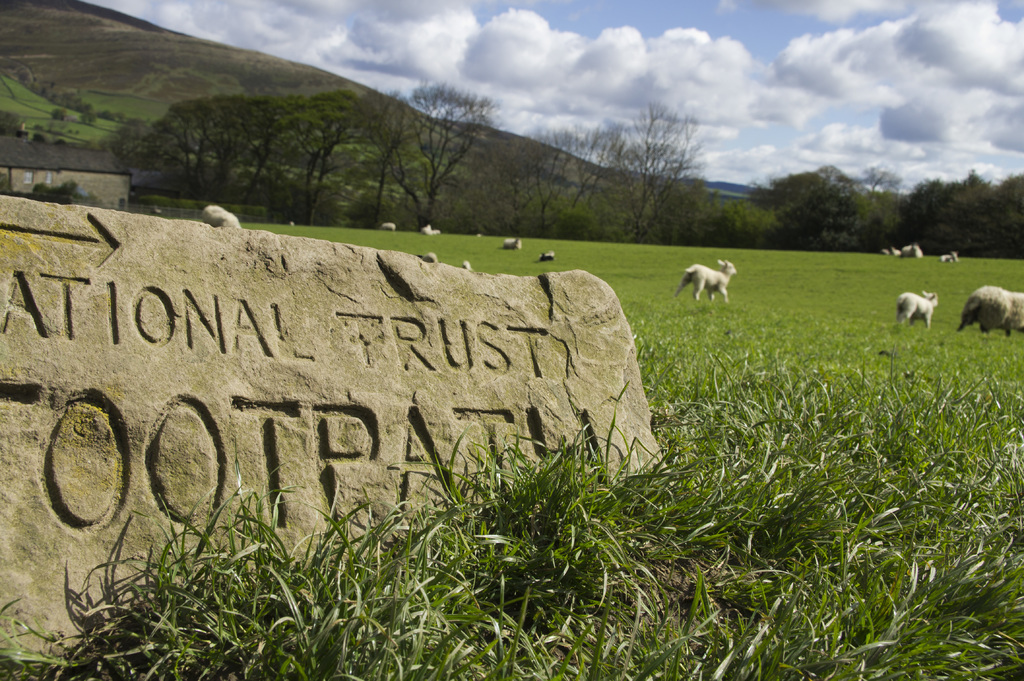sheep: (670, 259, 734, 300), (898, 289, 940, 330), (898, 243, 922, 260), (941, 250, 958, 260), (426, 224, 441, 234), (506, 238, 519, 249), (380, 223, 398, 230), (541, 252, 552, 260), (420, 224, 432, 230), (462, 261, 471, 269), (885, 248, 892, 255)
